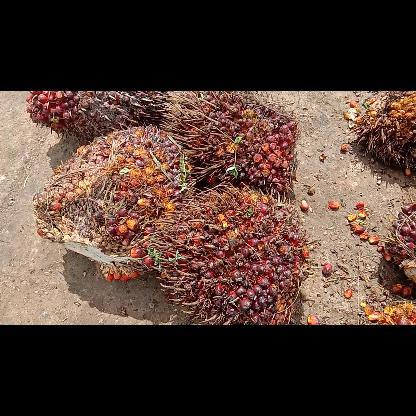TBS masak: (32, 126, 192, 280), (156, 182, 309, 324), (164, 91, 298, 190), (26, 91, 164, 139)
